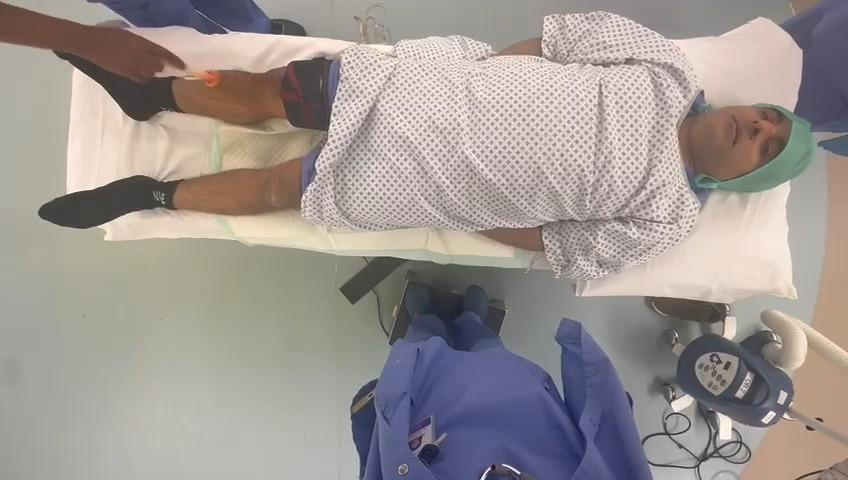patient: (40, 12, 815, 280)
prepstick: (161, 66, 220, 88)
tourniquet: (282, 58, 333, 131)
